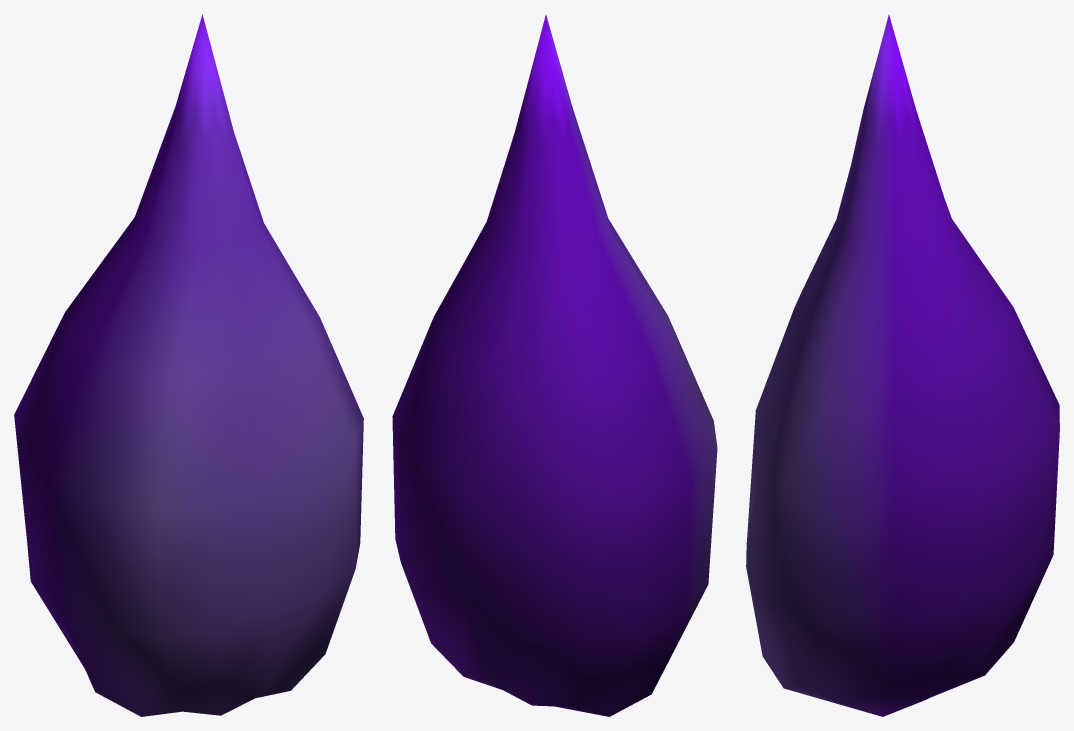
File: SoulDrop.fbx
The picture shows the model from 3 angles, left to right: view 1: azimuth 30°, elevation 25°; view 2: azimuth 150°, elevation 25°; view 3: azimuth 270°, elevation 25°; orthographic projection.
Parts seen in each view (by area): view 1: Cone; view 2: Cone; view 3: Cone.
Boxes of the visible parts, box(x1,y1,x2,y2) form: Cone: box(14, 14, 363, 716); Cone: box(392, 15, 717, 716); Cone: box(746, 15, 1059, 716).
Size of the model in its own units: 1.68 by 3.88 by 1.57.
